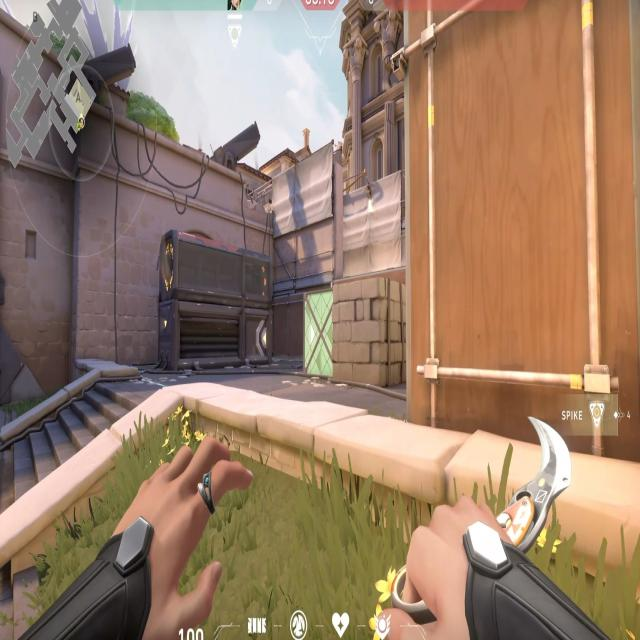A_Heaven_Wall: (269, 151, 344, 290)
A_Site_Box: (303, 274, 406, 385)
